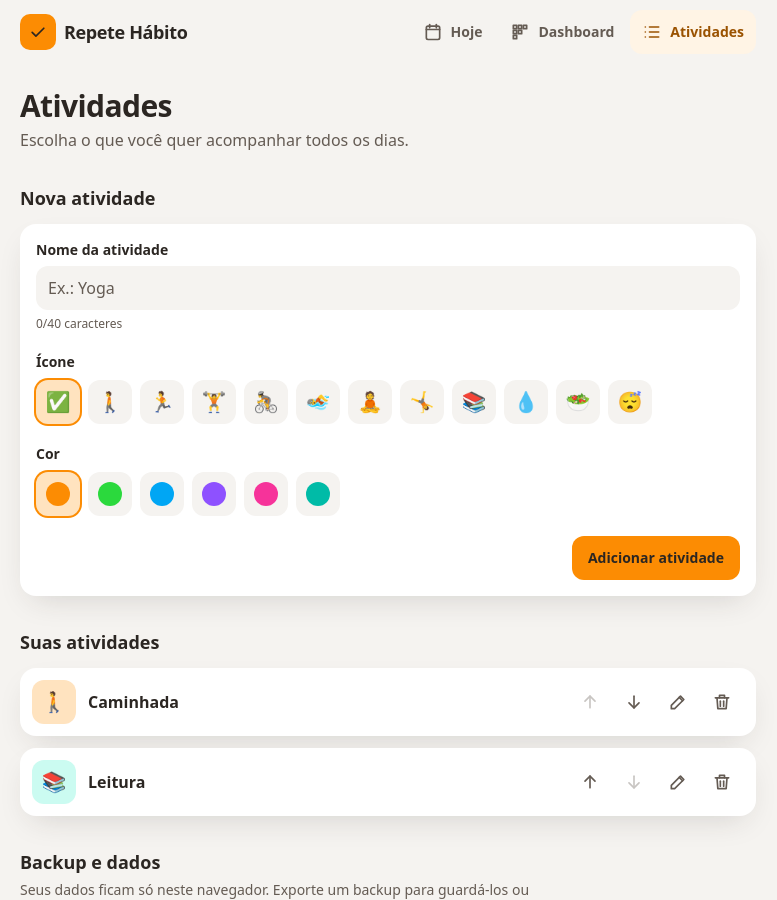
Scenario: ActivitiesView — gerenciamento › remove direto, sem confirmação, uma atividade sem histórico
Click the button named "Remover Leitura" at [722, 782], box [700,760,744,804]
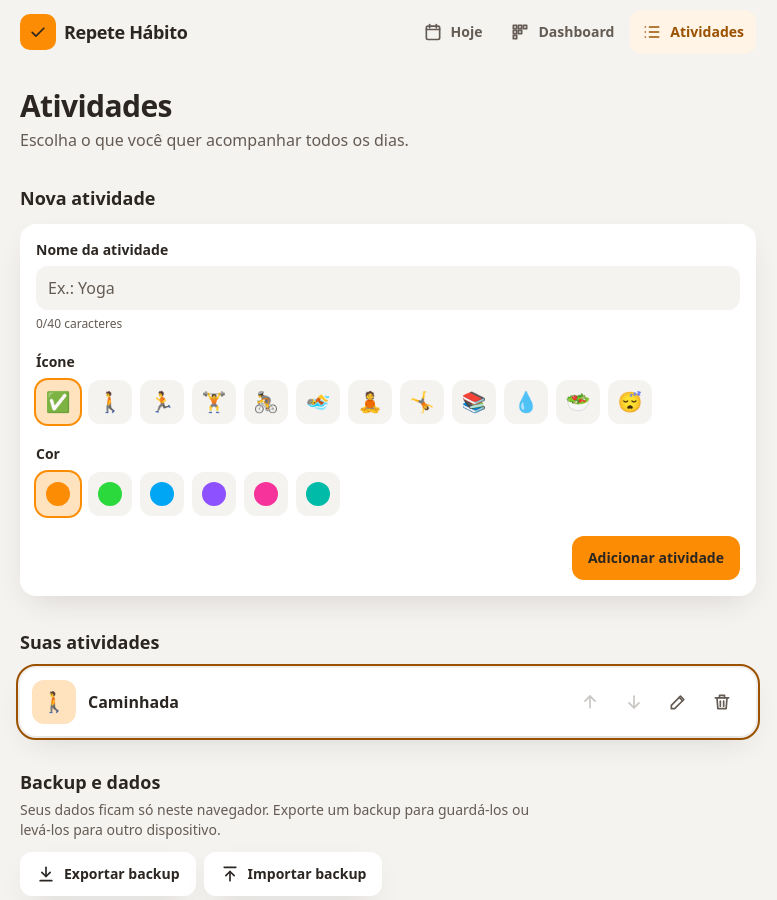
Expected: the text "Leitura" is gone
